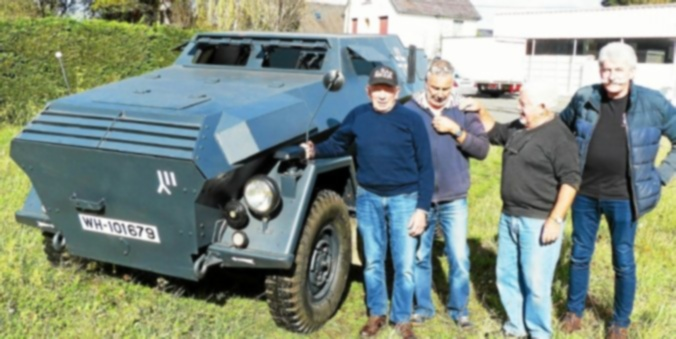license_plate: (82, 215, 159, 243)
